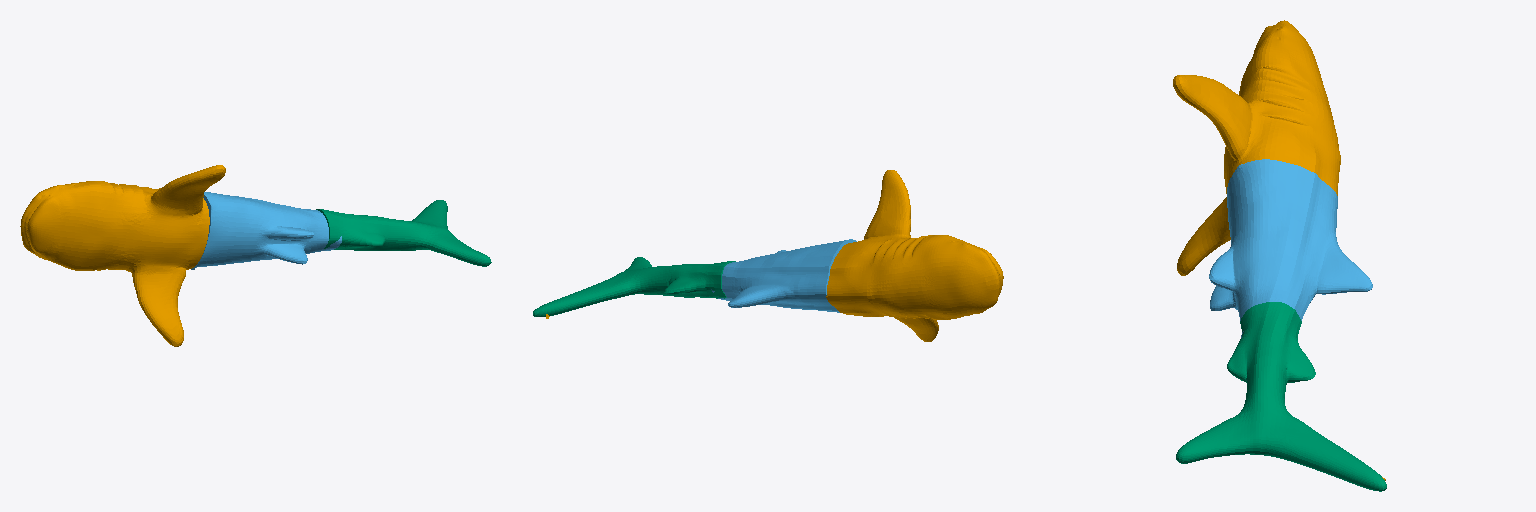
URDF robot description (flexible_fish):
<?xml version="1.0" ?>
<robot name="flexible_fish">

  <!-- 头部 -->
  <link name="head">
    <visual>
      <geometry>
        <mesh filename="models/fish_head.obj" scale="0.04 0.04 0.04"/>
      </geometry>
      <material name="fish_material_head">
        <texture filename="models/fish_texture.jpg"/>
      </material>
    </visual>
    <collision>
      <geometry>
        <mesh filename="models/fish_head.obj" scale="0.04 0.04 0.04"/>
      </geometry>
    </collision>
  </link>

  <!-- 身体 -->
  <link name="body">
    <visual>
      <geometry>
        <mesh filename="models/fish_body.obj" scale="0.04 0.04 0.04"/>
      </geometry>
      <material name="fish_material_body">
        <texture filename="models/fish_texture.jpg"/>
      </material>
    </visual>
    <collision>
      <geometry>
        <mesh filename="models/fish_body.obj" scale="0.04 0.04 0.04"/>
      </geometry>
    </collision>
  </link>

  <!-- 尾部 -->
  <link name="tail">
    <visual>
      <geometry>
        <mesh filename="models/fish_tail.obj" scale="0.04 0.04 0.04"/>
      </geometry>
      <material name="fish_material_tail">
        <texture filename="models/fish_texture.jpg"/>
      </material>
    </visual>
    <collision>
      <geometry>
        <mesh filename="models/fish_tail.obj" scale="0.04 0.04 0.04"/>
      </geometry>
    </collision>
  </link>

  <!-- 关节连接 -->

  <!-- 头部和身体之间的关节 -->
  <joint name="head_to_body" type="revolute">
    <parent link="head"/>
    <child link="body"/>
    <origin xyz="0.075 0 0" rpy="0 0 0"/>
    <axis xyz="0 0 1"/>
    <limit lower="-1.57" upper="1.57" effort="1" velocity="1"/>
  </joint>

  <!-- 身体和尾部之间的关节 -->
  <joint name="body_to_tail" type="revolute">
    <parent link="body"/>
    <child link="tail"/>
    <origin xyz="0.04 0 0" rpy="0 0 0"/>
    <axis xyz="0 0 1"/>
    <limit lower="-1.57" upper="1.57" effort="1" velocity="1"/>
  </joint>

</robot>

--- What the picture shows (computed from the rendered views, not written in the file) ---
The picture shows the robot from 3 angles, left to right: view 1: azimuth 30°, elevation 25°; view 2: azimuth 150°, elevation 25°; view 3: azimuth 270°, elevation 25°; orthographic projection.
Robot: flexible_fish — 3 links, 2 joints (2 revolute); root link head; default pose: all joints at 0.
Visible links, largest first — view 1: head, body, tail; view 2: head, body, tail; view 3: body, head, tail.
Boxes of the visible links, box(x1,y1,x2,y2) form: head: box(20, 165, 225, 346); body: box(191, 192, 341, 269); tail: box(316, 200, 491, 266); head: box(546, 170, 1003, 341); body: box(711, 239, 856, 312); tail: box(533, 257, 735, 316); body: box(1209, 159, 1372, 337); head: box(1173, 20, 1385, 480); tail: box(1176, 302, 1386, 491).
Bounding box of the posed robot: 3.82 × 1.19 × 1.38 m (x, y, z).
Meshes: 3 distinct files referenced, 3 mesh visuals loaded (3 OBJ).
